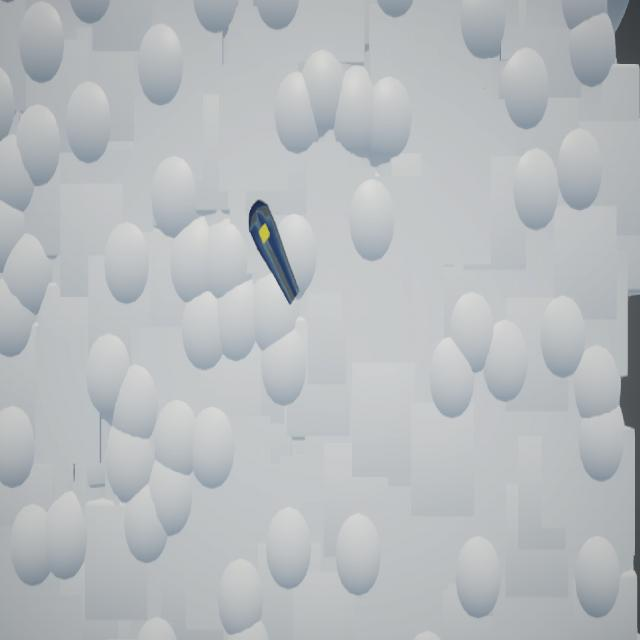handle_knife: (249, 200, 301, 307)
